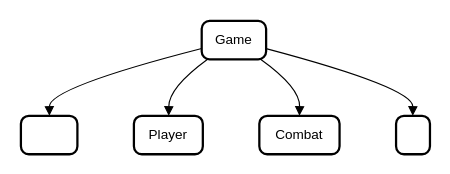
Some shapes in this 450 by 174 pixel diagram are drawn without their labels. Each missing label, with the centre of its shape:
"Deck" belongs at pixel 48 134.
"UI" belongs at pixel 412 134.
